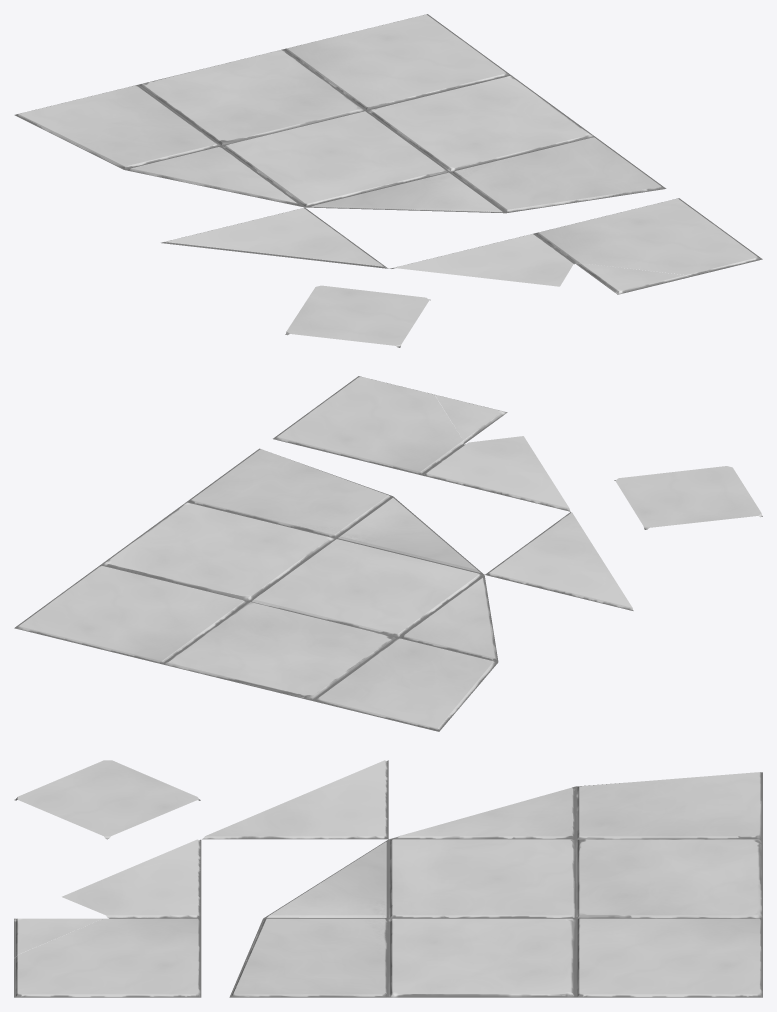
Rendered from Tiles.glb.
3 views of the same model, one above another, from view 1: azimuth 30°, elevation 25°; view 2: azimuth 150°, elevation 25°; view 3: azimuth 270°, elevation 25° (orthographic). The views are drawn at different scales.
Parts seen in each view (by area): view 1: Tile.004, Tile.001, Tile.002, Tile.003, Tile.A, Tile_L, Tile_R, Tile_f, Tile.C, Tile_fA, Tile_LF, Tile.RF (+1 smaller); view 2: Tile.002, Tile.004, Tile.001, Tile.003, Tile.A, Tile_R, Tile_L, Tile_f, Tile.C, Tile_fA, Tile_LF, Tile.RF (+1 smaller); view 3: Tile.002, Tile.003, Tile.004, Tile.001, Tile.A, Tile_L, Tile_R, Tile_f, Tile.C, Tile_fA, Tile.RF, Tile_LF (+1 smaller).
Boxes of the visible parts, x1,y1,x2,y2 form: Tile.004: (221, 111, 449, 207); Tile.001: (283, 14, 510, 110); Tile.002: (366, 75, 594, 171); Tile.003: (138, 49, 365, 145); Tile.A: (534, 198, 762, 276); Tile_L: (14, 85, 220, 169); Tile_R: (450, 136, 666, 213); Tile_f: (161, 207, 388, 268); Tile.C: (285, 285, 430, 347); Tile_fA: (389, 233, 574, 286); Tile_LF: (305, 172, 505, 213); Tile.RF: (124, 146, 304, 207); Tile.002: (100, 502, 334, 601); Tile.004: (249, 538, 483, 637); Tile.001: (14, 565, 248, 664); Tile.003: (163, 601, 397, 700); Tile.A: (273, 376, 464, 475); Tile_R: (186, 448, 392, 538); Tile_L: (313, 638, 497, 731); Tile_f: (485, 512, 633, 610); Tile.C: (614, 466, 762, 529); Tile_fA: (422, 436, 570, 511); Tile_LF: (336, 496, 484, 574); Tile.RF: (399, 575, 498, 661); Tile.002: (388, 918, 575, 997); Tile.003: (575, 839, 762, 918); Tile.004: (388, 839, 575, 918); Tile.001: (575, 918, 762, 997); Tile.A: (14, 918, 201, 997); Tile_L: (575, 772, 762, 839); Tile_R: (229, 918, 388, 997); Tile_f: (202, 760, 388, 839); Tile.C: (14, 760, 200, 839); Tile_fA: (62, 839, 201, 918); Tile.RF: (390, 786, 575, 839); Tile_LF: (263, 840, 388, 918).
Size of the model in its own units: 6 by 0.02 by 8.
1 material, 1 textured.
